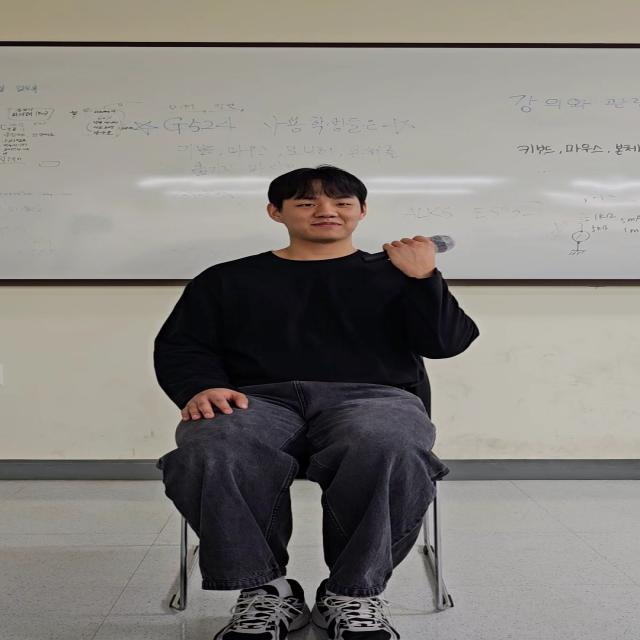curl: (364, 238, 498, 362)
